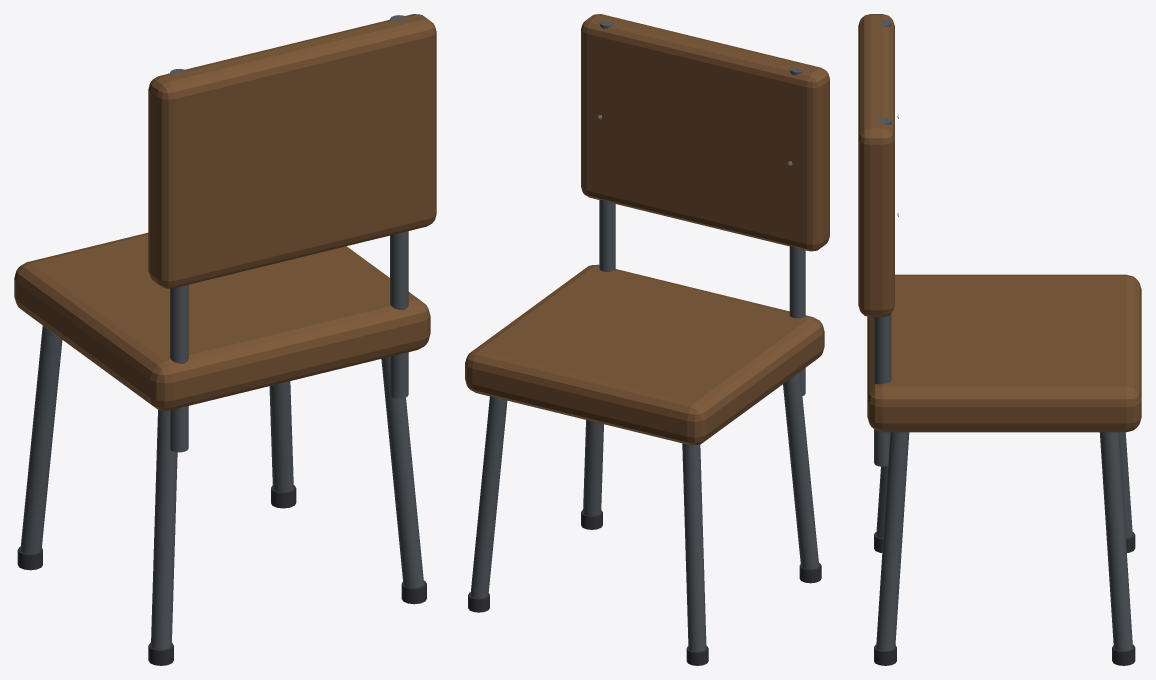
Rendered from chair.glb.
3 views of the same model, side by side, from view 1: azimuth 30°, elevation 25°; view 2: azimuth 150°, elevation 25°; view 3: azimuth 270°, elevation 25° (orthographic). The views are drawn at different scales.
Visible parts, largest first — view 1: chair; view 2: chair; view 3: chair.
Boxes of the visible parts, bbox=[...] form: chair: bbox=[14, 14, 436, 665]; chair: bbox=[465, 14, 829, 665]; chair: bbox=[858, 14, 1141, 665].
Bounding box in the file's own units: 0.48 × 0.965 × 0.465.
